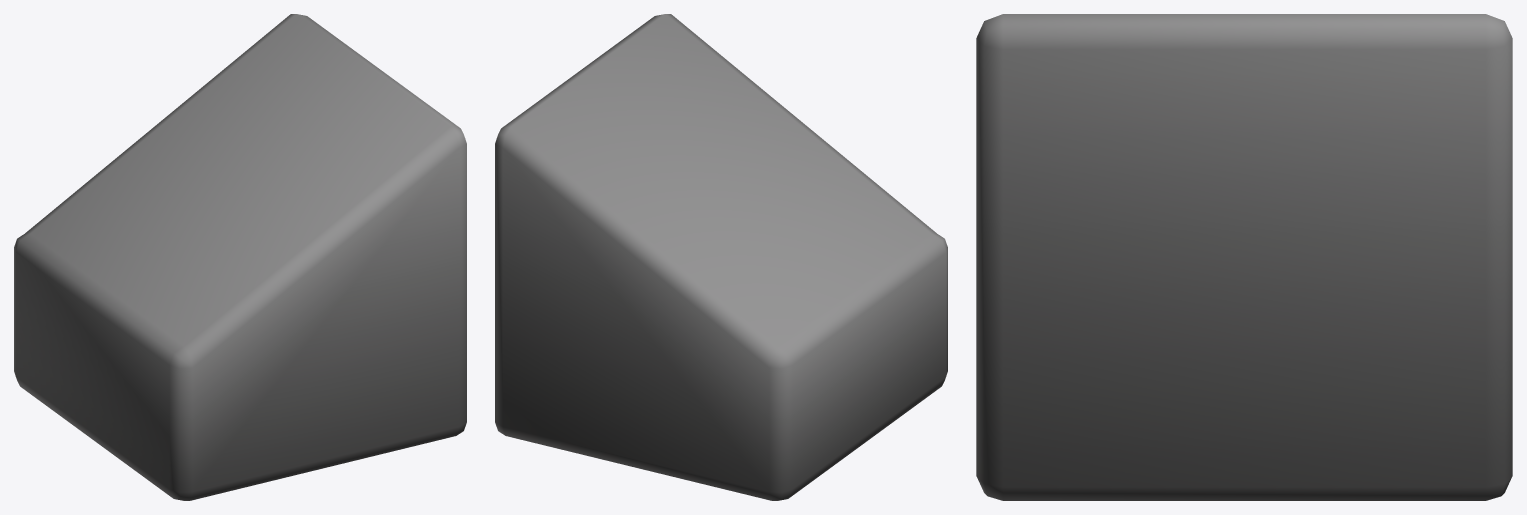
Rendered from 3D_Tile_Dungeon_Slope_01A.glb.
3 views of the same model, side by side, from view 1: azimuth 30°, elevation 25°; view 2: azimuth 150°, elevation 25°; view 3: azimuth 270°, elevation 25° (orthographic). The views are drawn at different scales.
Visible parts, largest first — view 1: 3D_Tile_Dungeon_Slope_01A; view 2: 3D_Tile_Dungeon_Slope_01A; view 3: 3D_Tile_Dungeon_Slope_01A.
Boxes of the visible parts, left/top/right/bottom form: 3D_Tile_Dungeon_Slope_01A: left=14, top=14, right=466, bottom=500; 3D_Tile_Dungeon_Slope_01A: left=495, top=14, right=947, bottom=500; 3D_Tile_Dungeon_Slope_01A: left=976, top=14, right=1512, bottom=500.
Bounding box in the file's own units: 2 × 2 × 2.
Materials: 1 (1 with a texture image).
